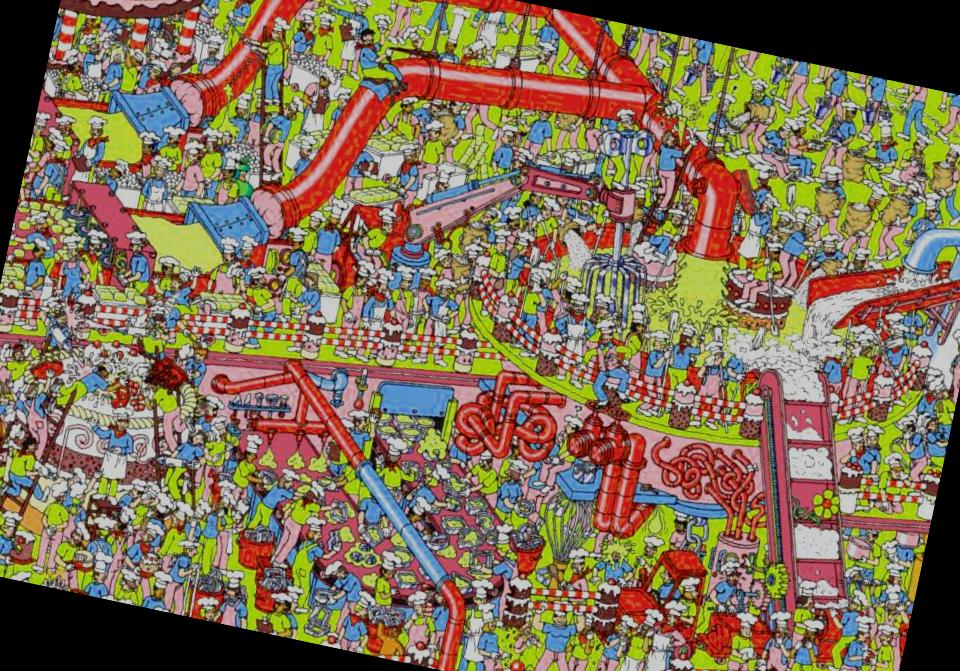waldo: (510, 127, 528, 146)
